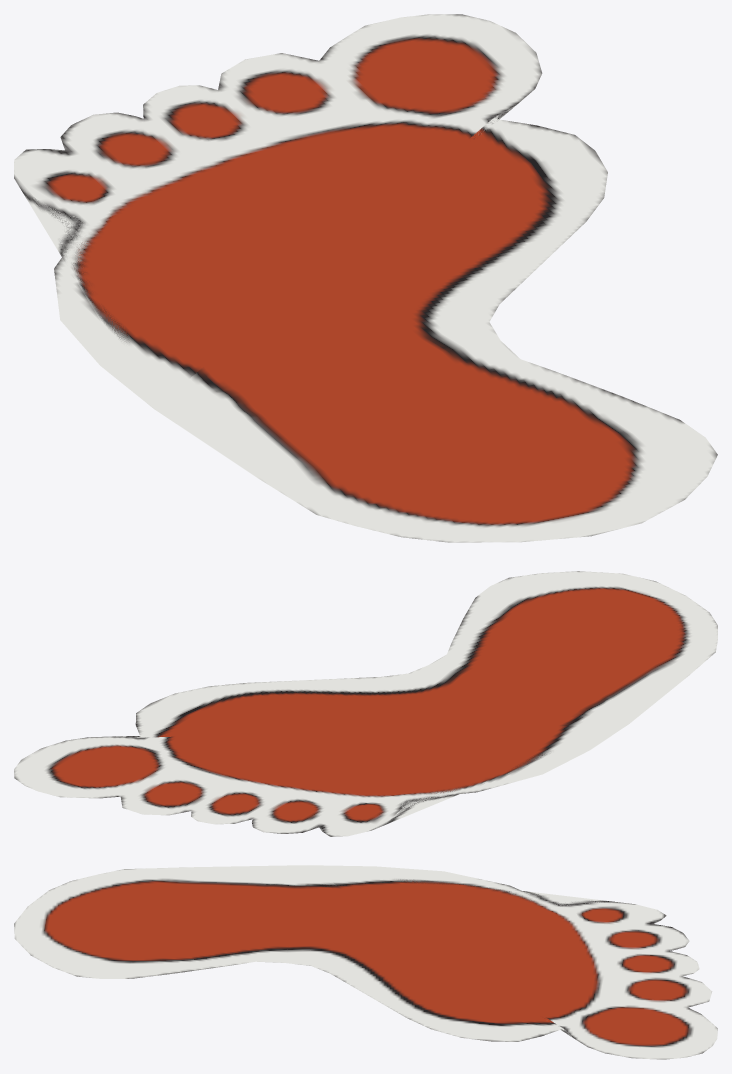
Rendered from RedLeftFootprint.fbx.
3 renders of one model, top to bottom at view 1: azimuth 30°, elevation 25°; view 2: azimuth 150°, elevation 25°; view 3: azimuth 270°, elevation 25°, orthographic. The views are drawn at different scales.
Visible parts, largest first — view 1: Plane.001; view 2: Plane.001; view 3: Plane.001.
Part boxes in pixels (left/top/right/bottom): Plane.001: left=14, top=14, right=717, bottom=542; Plane.001: left=14, top=571, right=717, bottom=836; Plane.001: left=14, top=865, right=717, bottom=1059.
Size of the model in its own units: 793 by 0.000197 by 1211.
